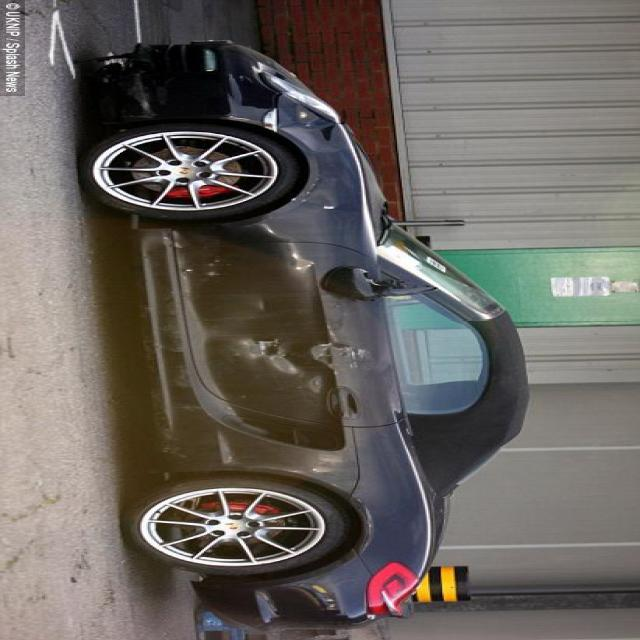dent: (204, 316, 398, 388)
